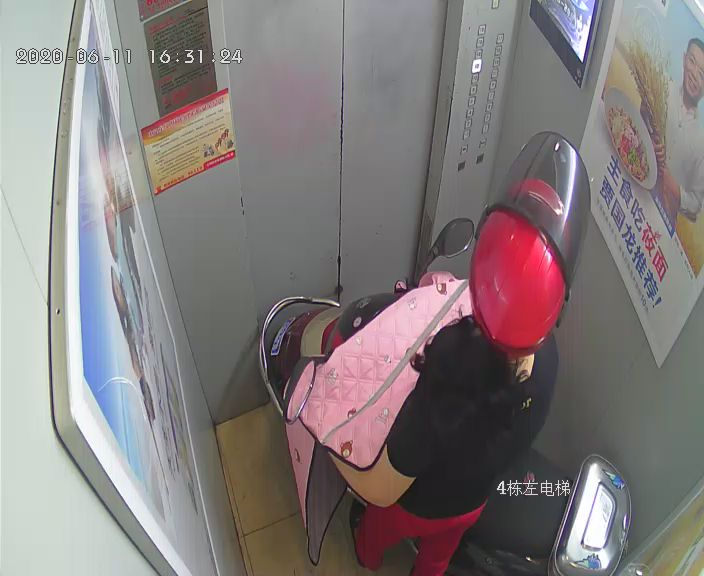Electric-bicycle: (262, 216, 633, 576)
